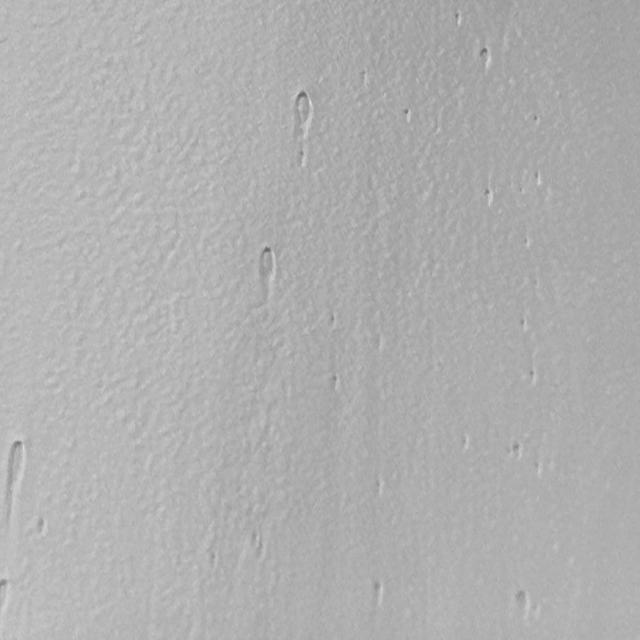pin holes: (286, 90, 318, 135), (4, 439, 30, 486), (253, 244, 279, 290), (512, 587, 536, 618), (367, 578, 387, 607), (475, 45, 495, 74), (246, 532, 265, 560), (0, 577, 15, 610), (524, 366, 544, 389), (32, 516, 51, 540), (456, 431, 474, 455), (372, 476, 388, 500), (206, 550, 223, 572), (509, 440, 526, 461), (328, 372, 344, 394), (295, 150, 309, 172), (481, 188, 496, 208), (532, 462, 546, 481), (519, 234, 533, 251), (451, 11, 464, 28), (517, 315, 530, 332), (401, 109, 414, 125), (534, 170, 545, 188), (532, 114, 544, 129), (330, 311, 336, 330)
